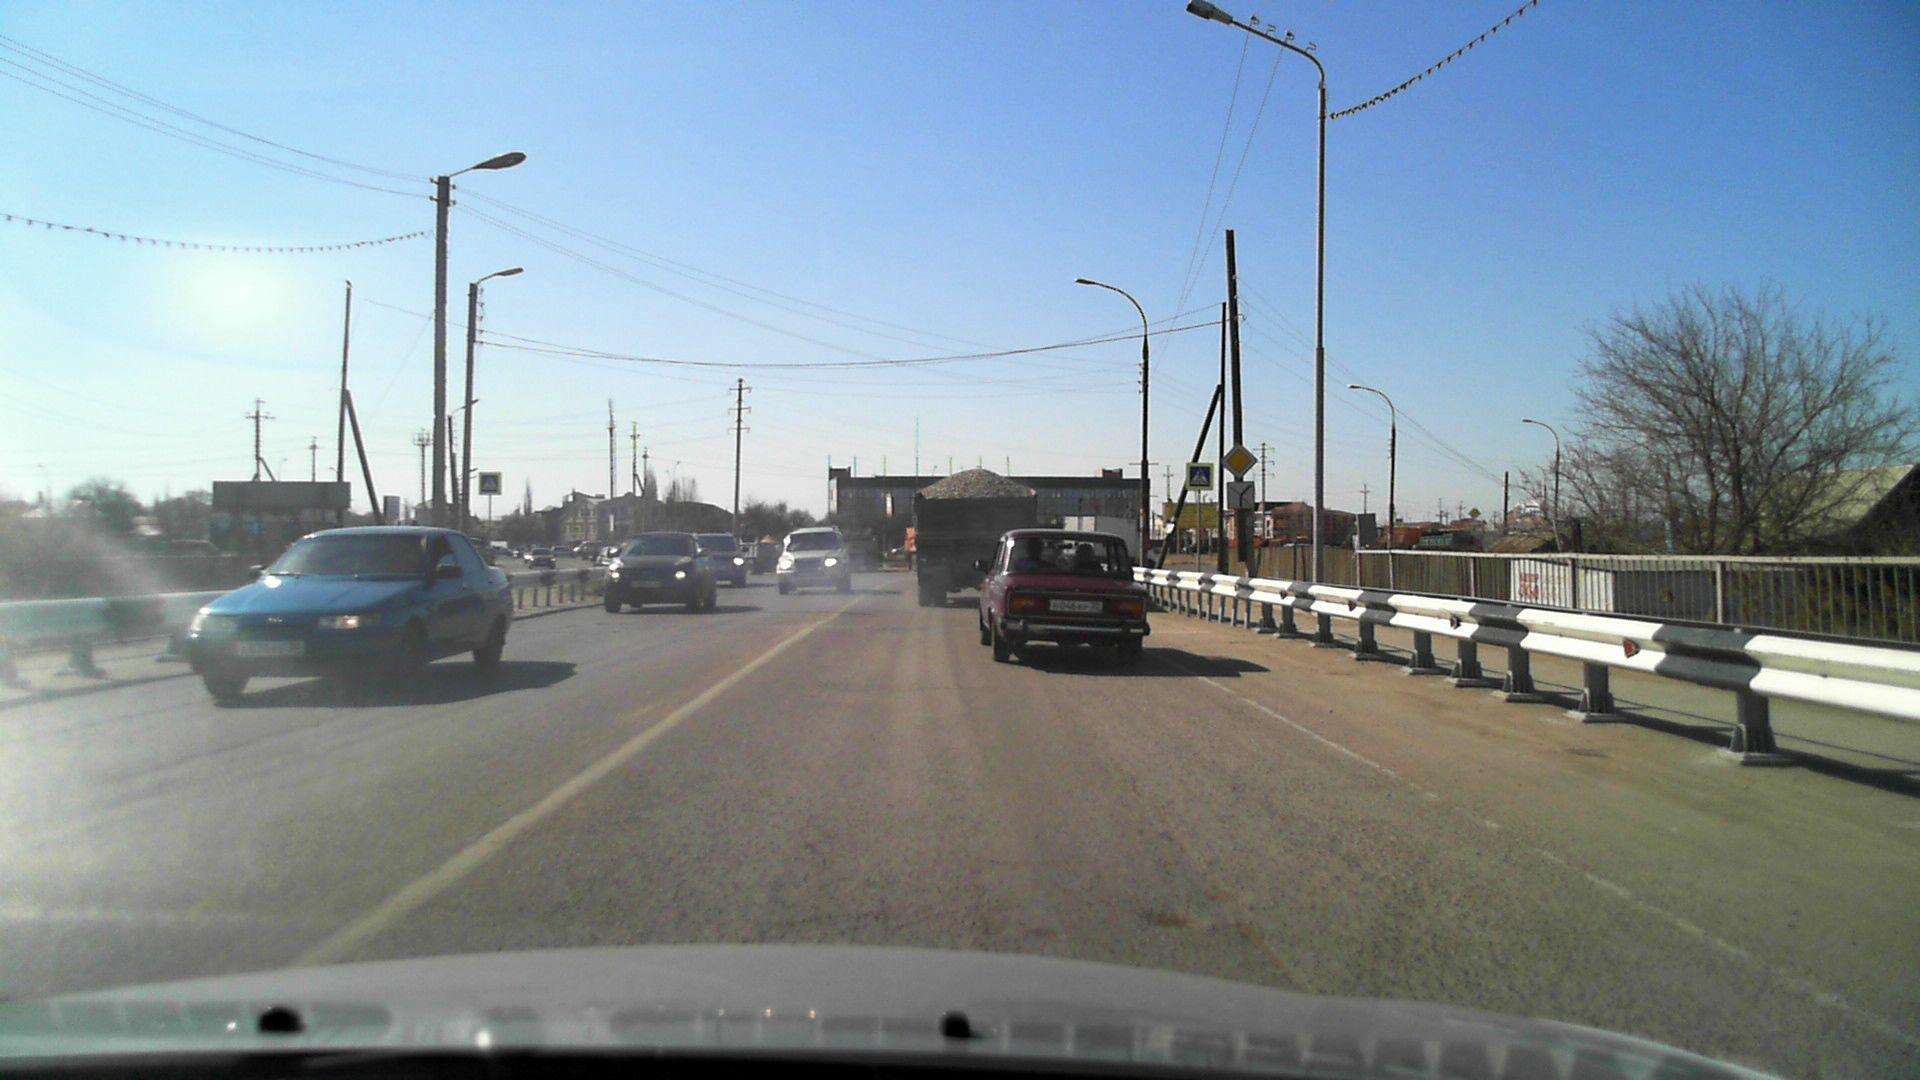2_1: (1220, 444, 1257, 477)
5_19_1: (1189, 464, 1212, 488)
5_19_2: (481, 473, 498, 493)
8_13: (1224, 479, 1255, 508)
